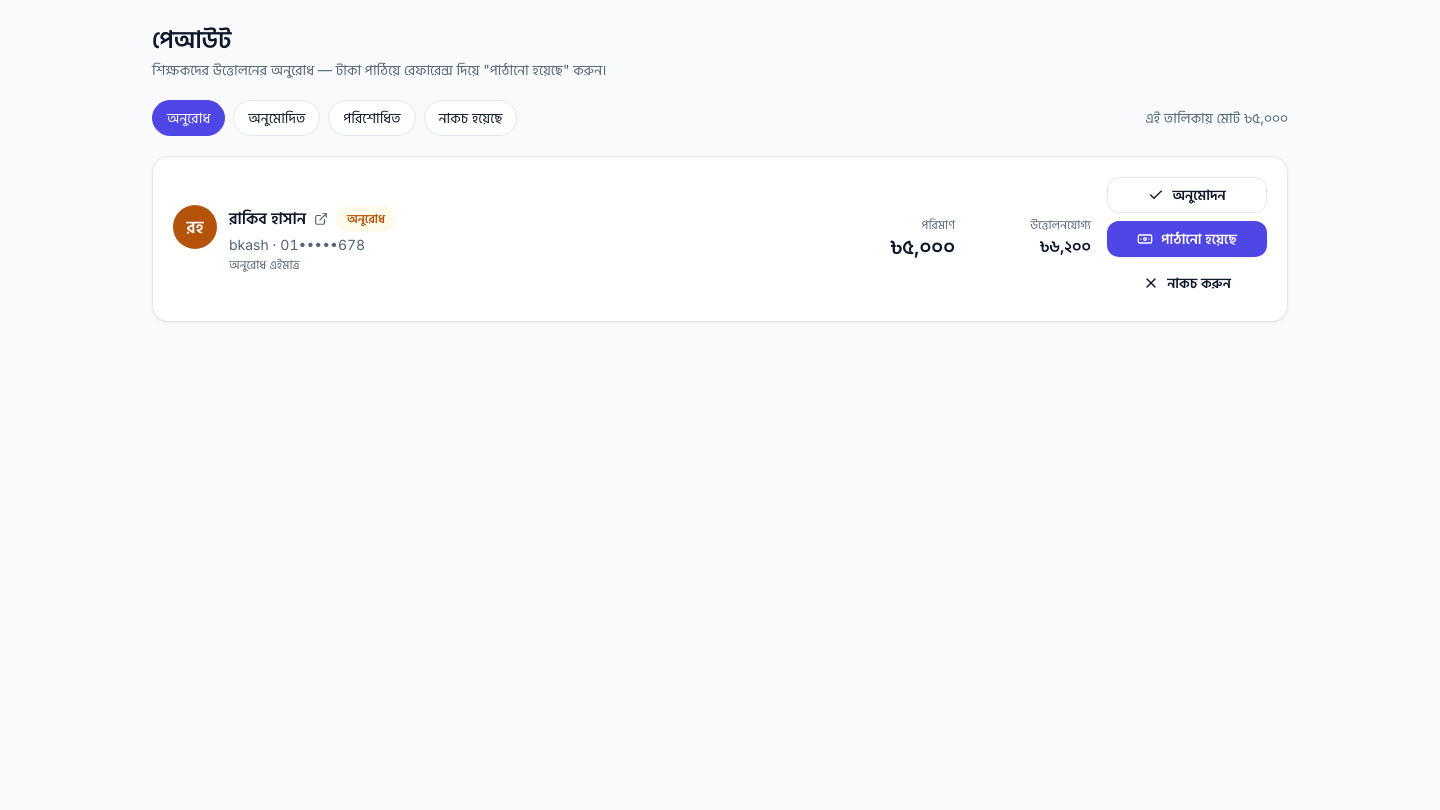
Test: Admin payouts › mark paid needs a reference and sends it
Later steps or results of the test are not shown.
Check: the text "৳৬,২০০" is shown, box [1040,236,1091,256]
Click the button "পাঠানো হয়েছে" at (1187, 239), box [1107,221,1267,257]
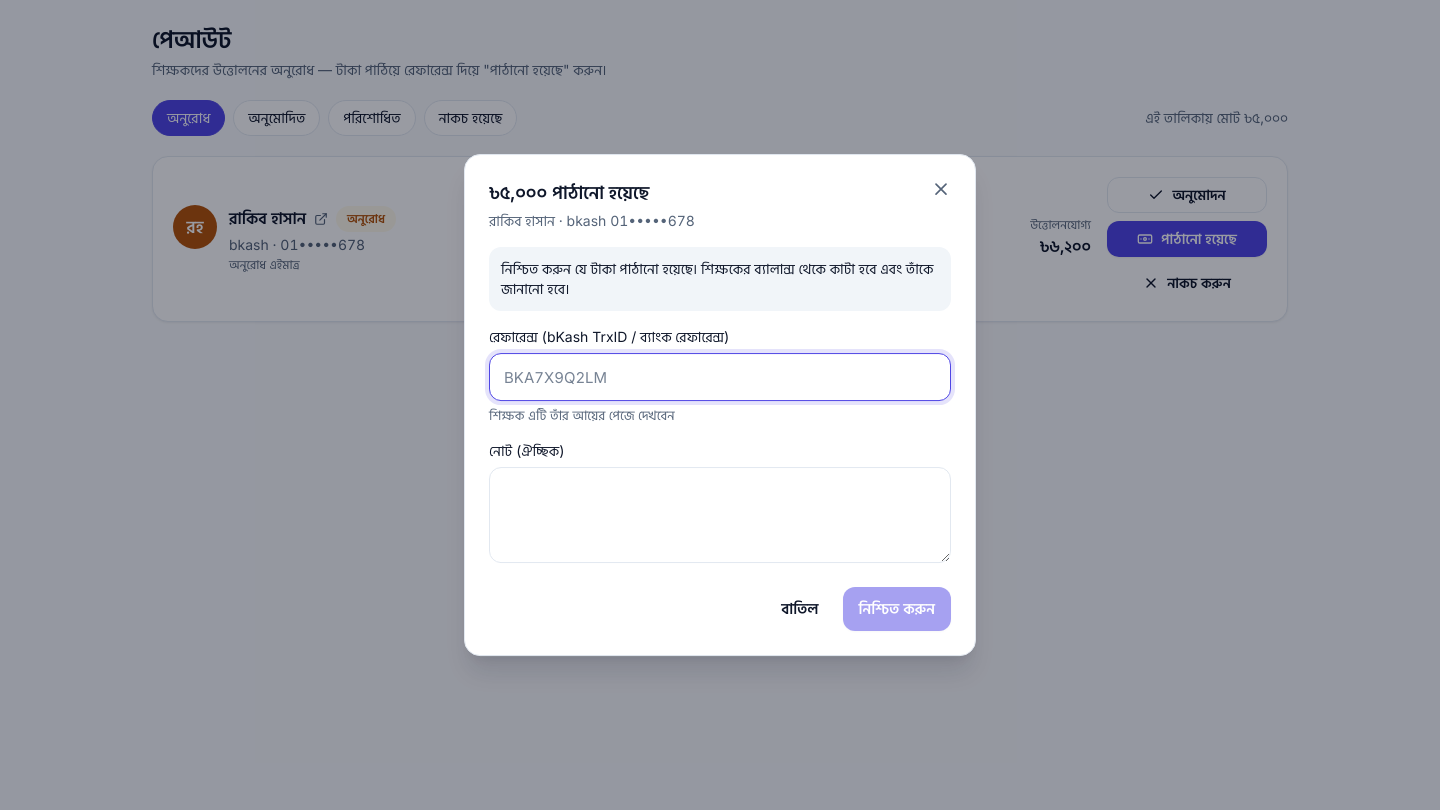
Check: the button "নিশ্চিত করুন" is disabled, box [842,587,951,631]
